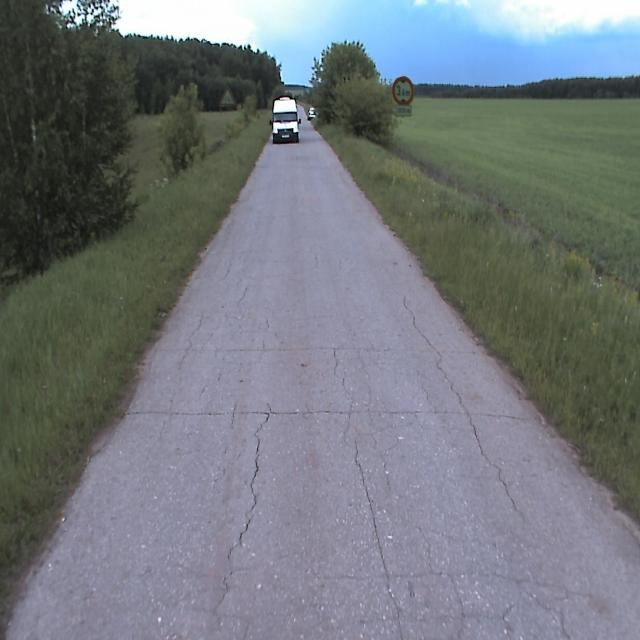road: (7, 104, 639, 639)
